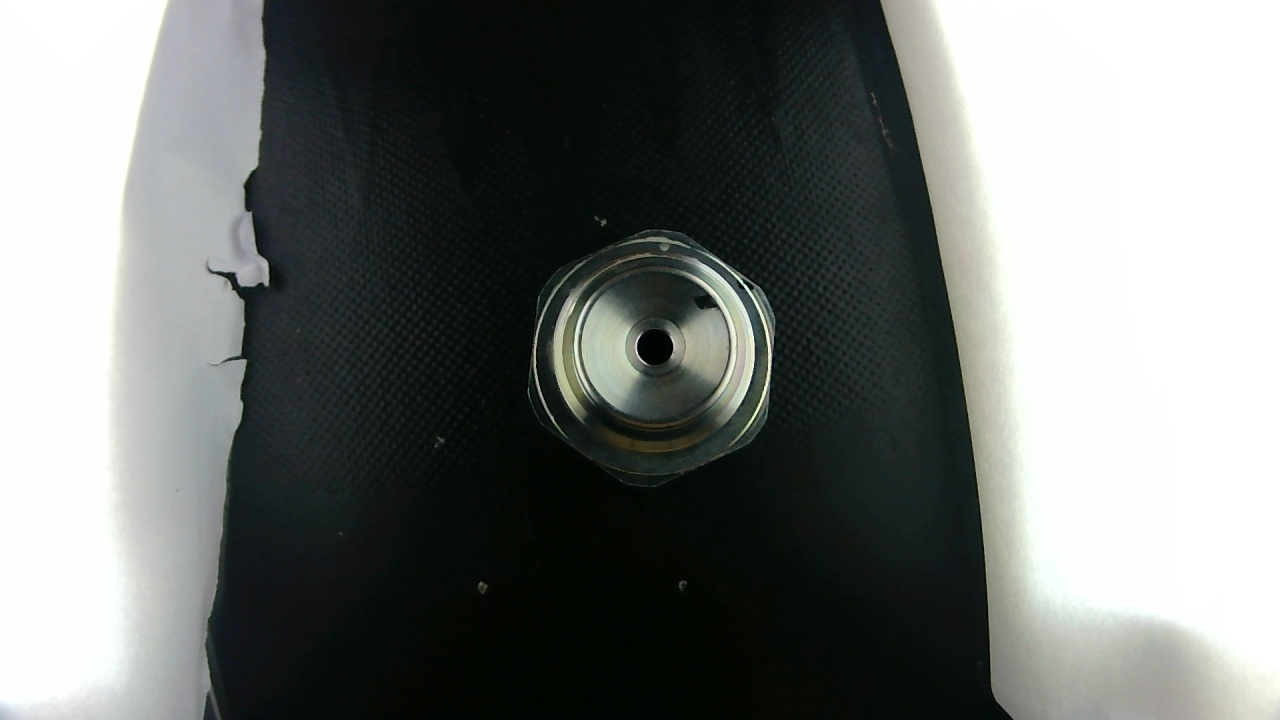Capnut_Hex_Out: (553, 236, 692, 385)
